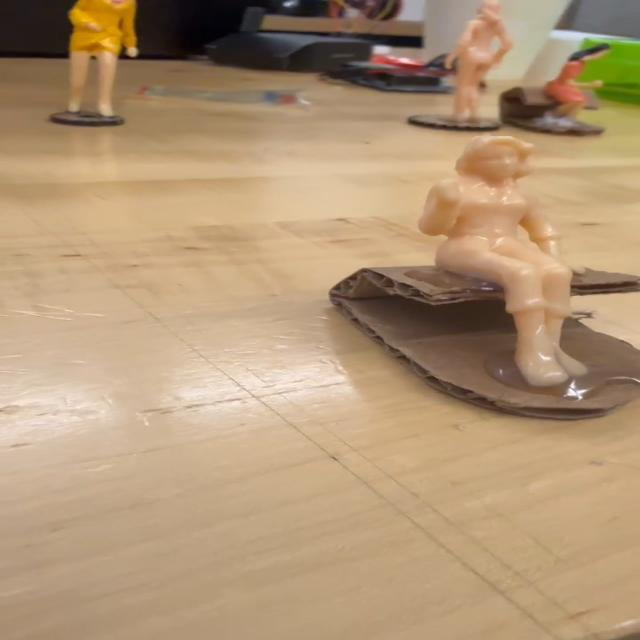Unauthorized: (393, 130, 604, 394)
